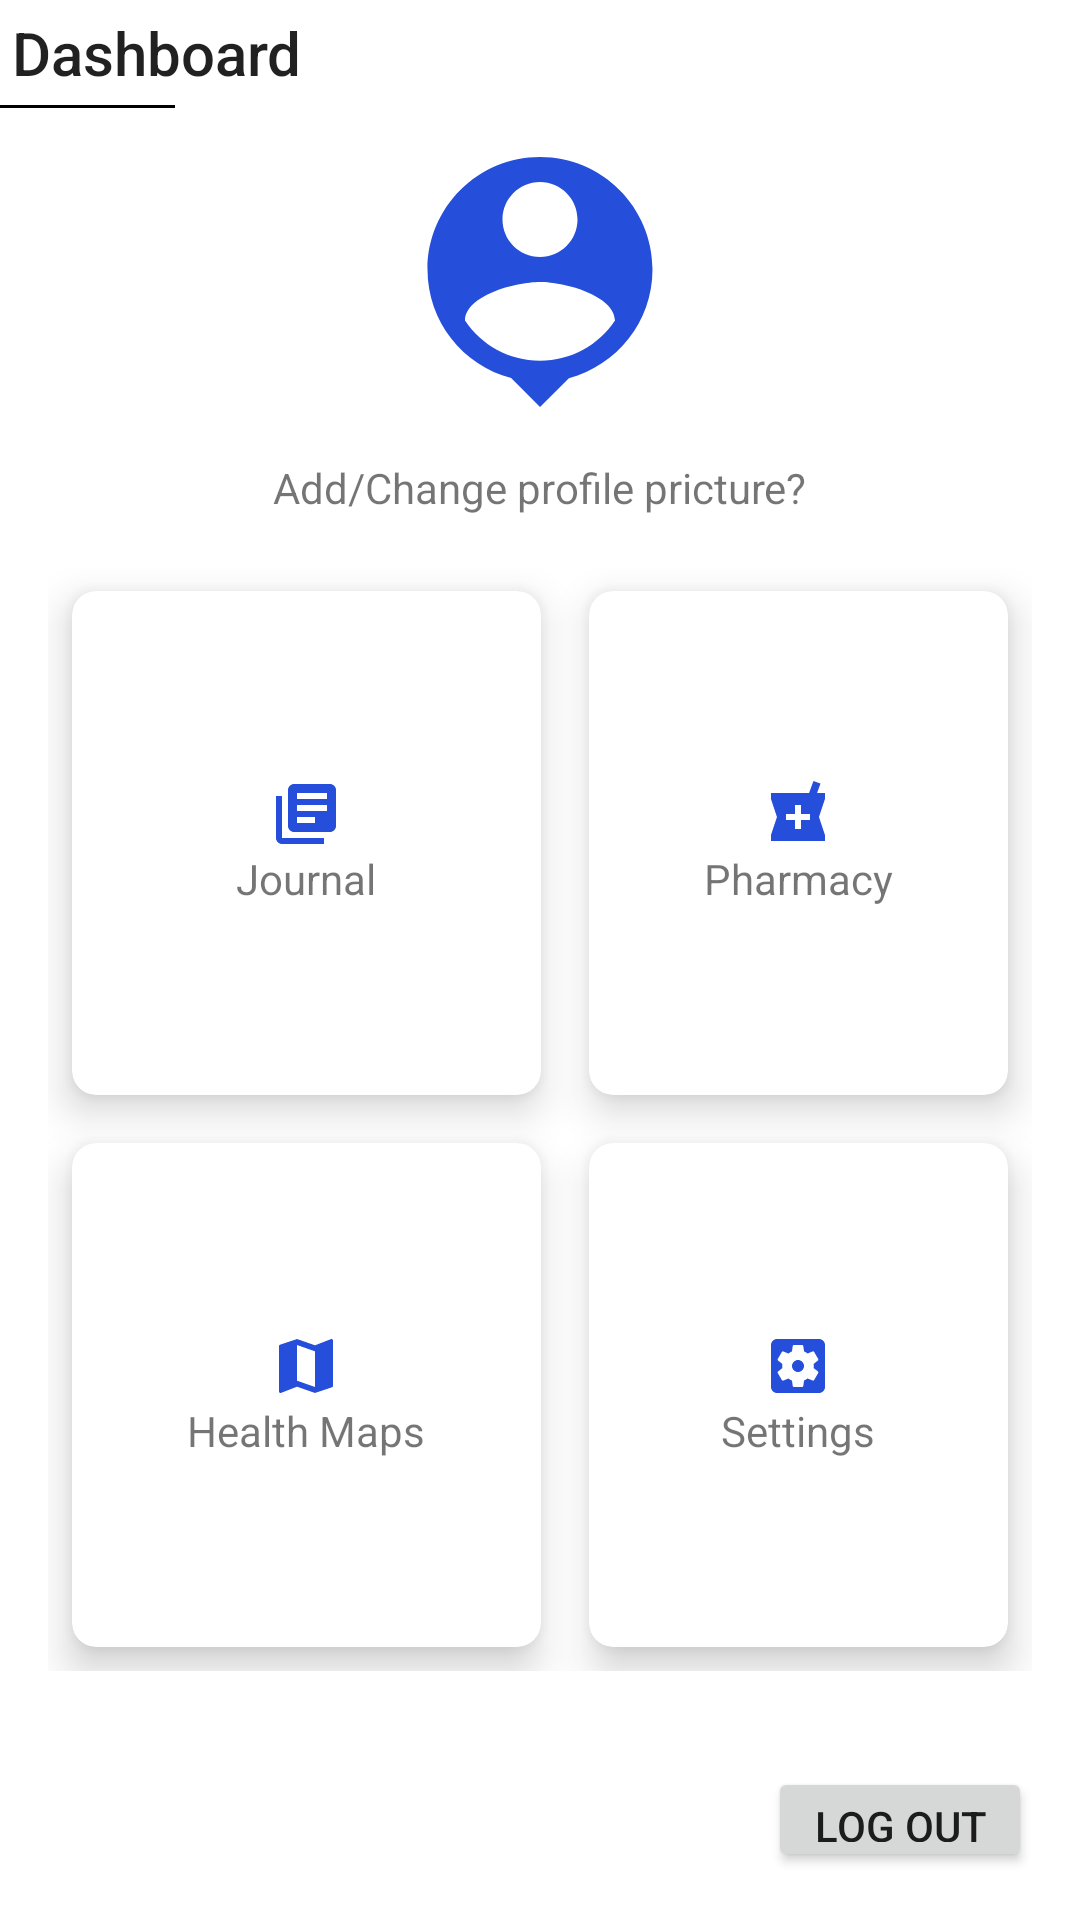

Icon click points for this 1080w x 1920h phone screenshot, format (x,y):
map: (306,1366)
user: (540,282)
